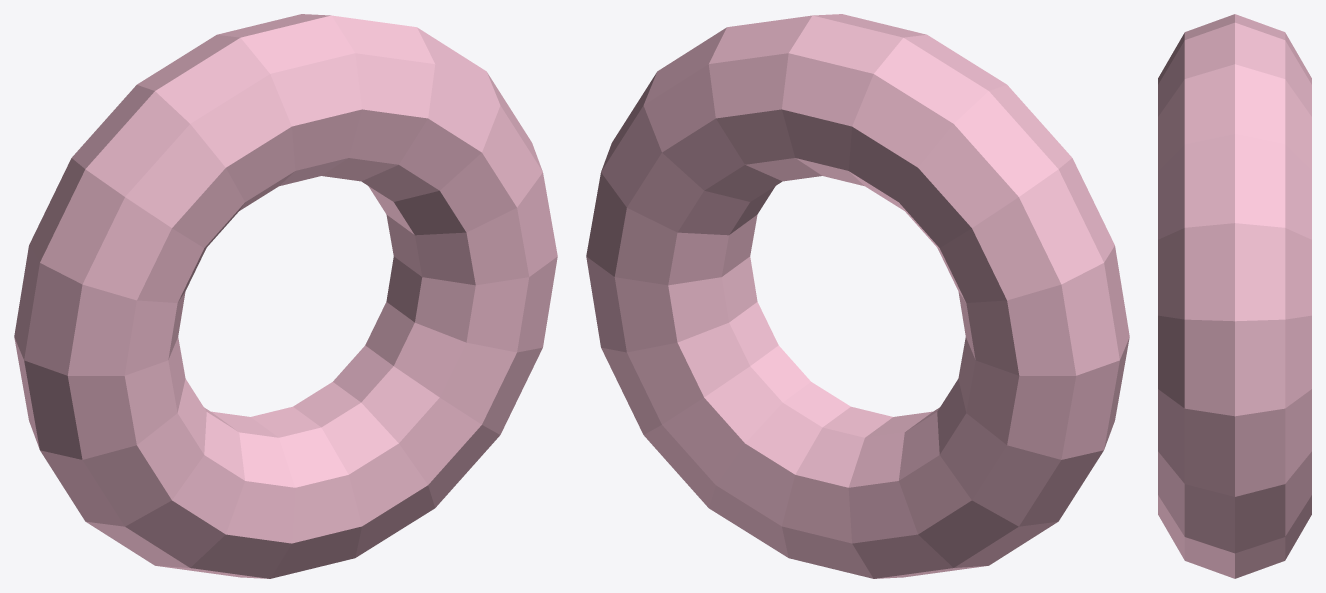
File: sample-ring.glb
3 views of the same model, side by side, from view 1: azimuth 30°, elevation 25°; view 2: azimuth 150°, elevation 25°; view 3: azimuth 270°, elevation 25° (orthographic). The views are drawn at different scales.
Size of the model in its own units: 2.76 by 2.72 by 0.7485.
